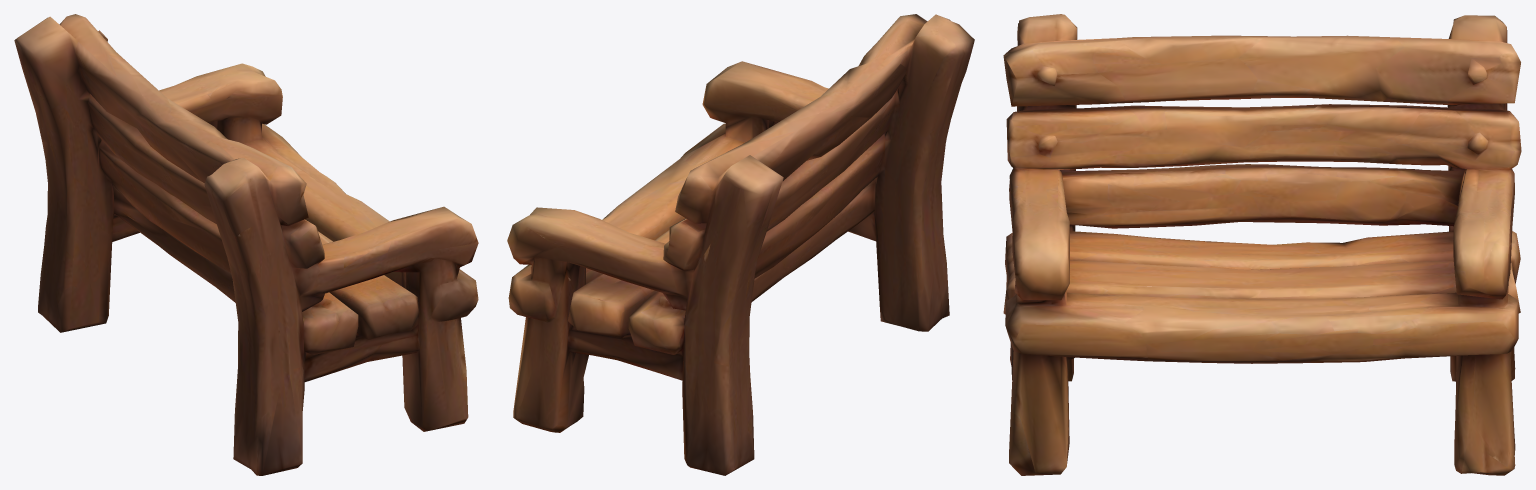
The model's file is bench_l2.glb.
3 views of the same model, side by side, from view 1: azimuth 30°, elevation 25°; view 2: azimuth 150°, elevation 25°; view 3: azimuth 270°, elevation 25° (orthographic). The views are drawn at different scales.
Visible parts, largest first — view 1: tripo_node_66807357-fffb-4544-899c-bf5d4bab21b3; view 2: tripo_node_66807357-fffb-4544-899c-bf5d4bab21b3; view 3: tripo_node_66807357-fffb-4544-899c-bf5d4bab21b3.
Part boxes in pixels (bbox=[...]): tripo_node_66807357-fffb-4544-899c-bf5d4bab21b3: bbox=[14, 14, 478, 475]; tripo_node_66807357-fffb-4544-899c-bf5d4bab21b3: bbox=[507, 14, 974, 475]; tripo_node_66807357-fffb-4544-899c-bf5d4bab21b3: bbox=[1003, 14, 1521, 475].
Bounding box in the file's own units: 0.6365 × 0.7213 × 0.9807.
1 material, 1 textured.
